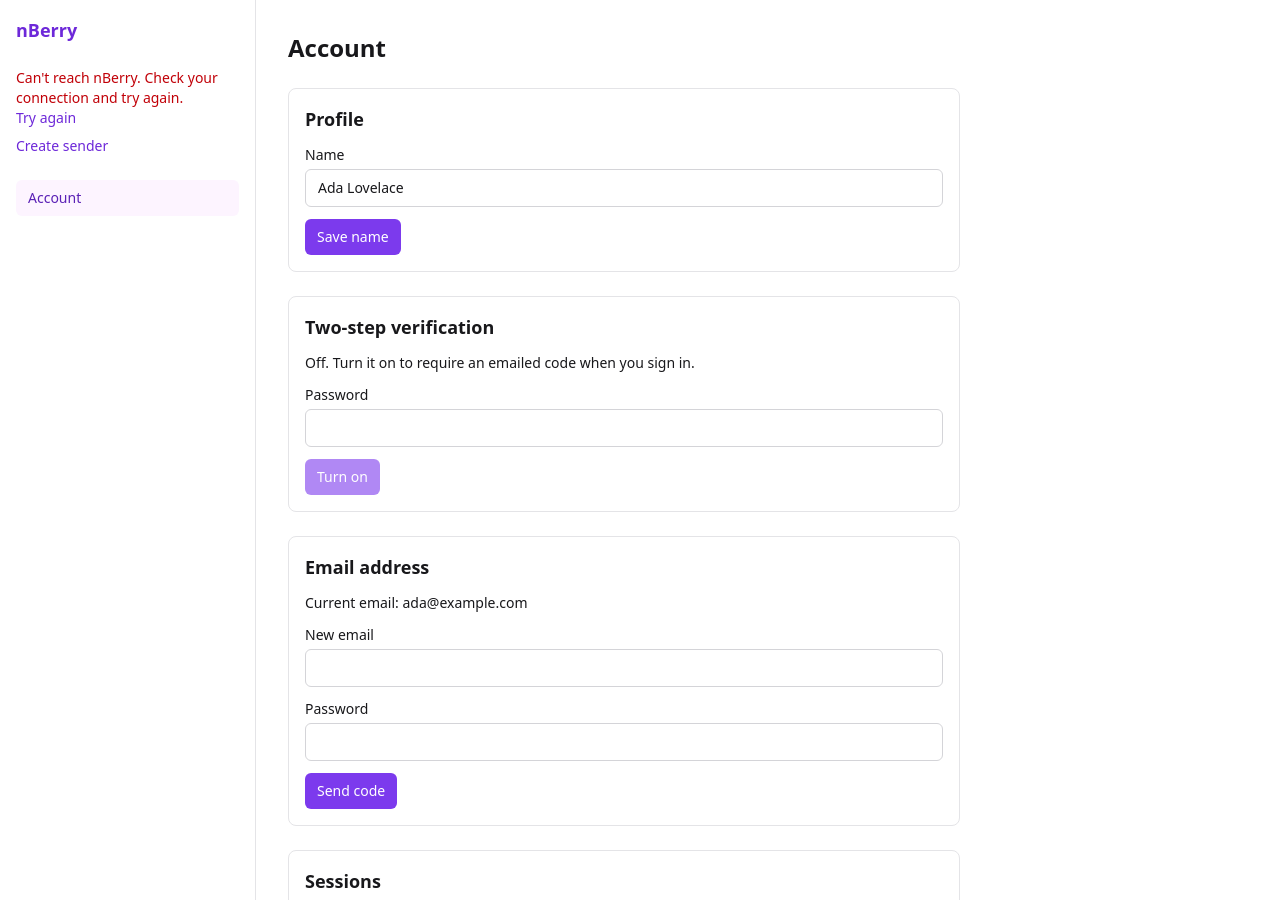
Test: account › email change: request then confirm code
expect the element "Email address" is shown: met, box [288,536,960,826]
Type "new@example.com" into the field labelled "New email" at x=624, y=668, box [305,649,943,687]
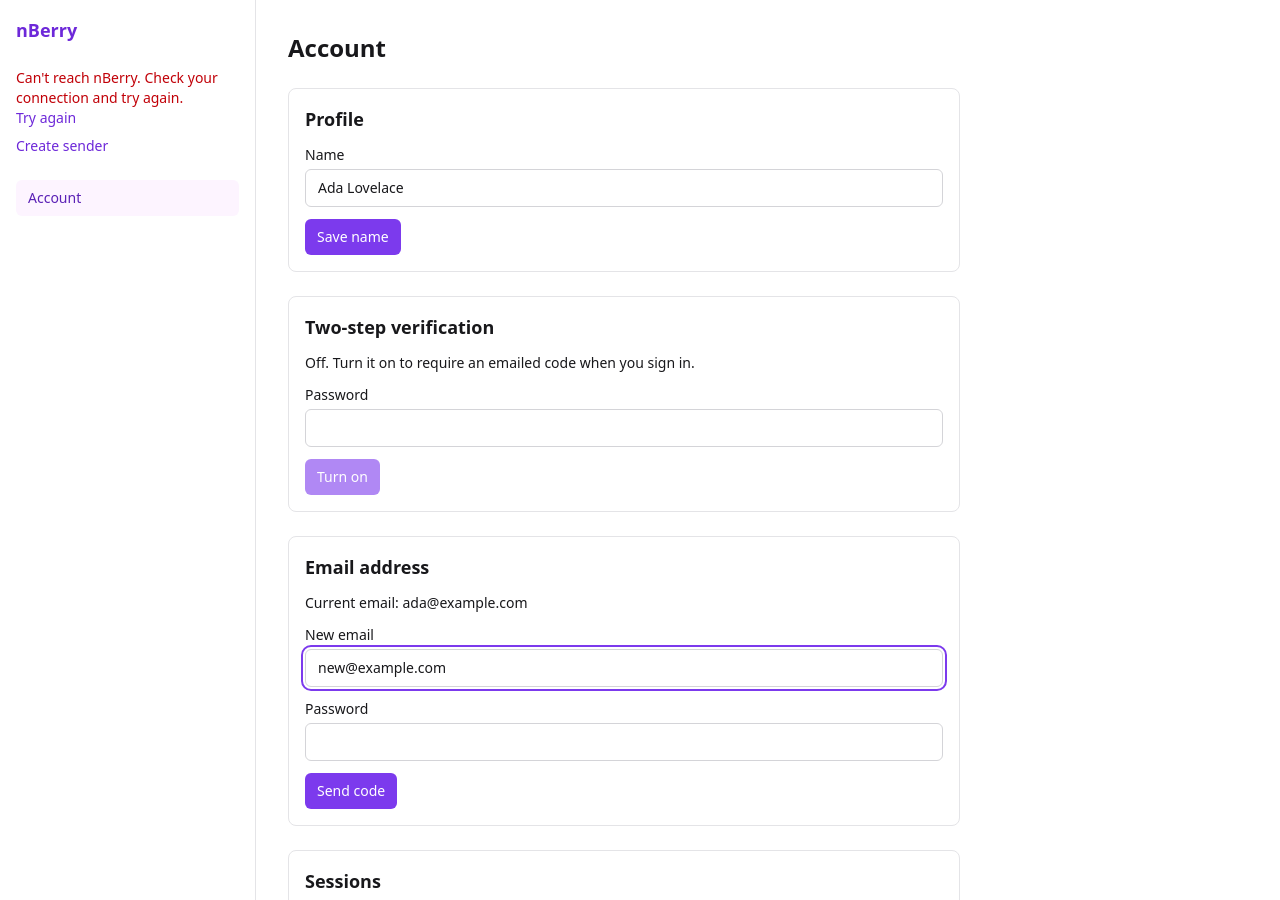
Type "pw-pw-pw-pw" into the password field labelled "Password" below "New email" at x=624, y=742, box [305,723,943,761]
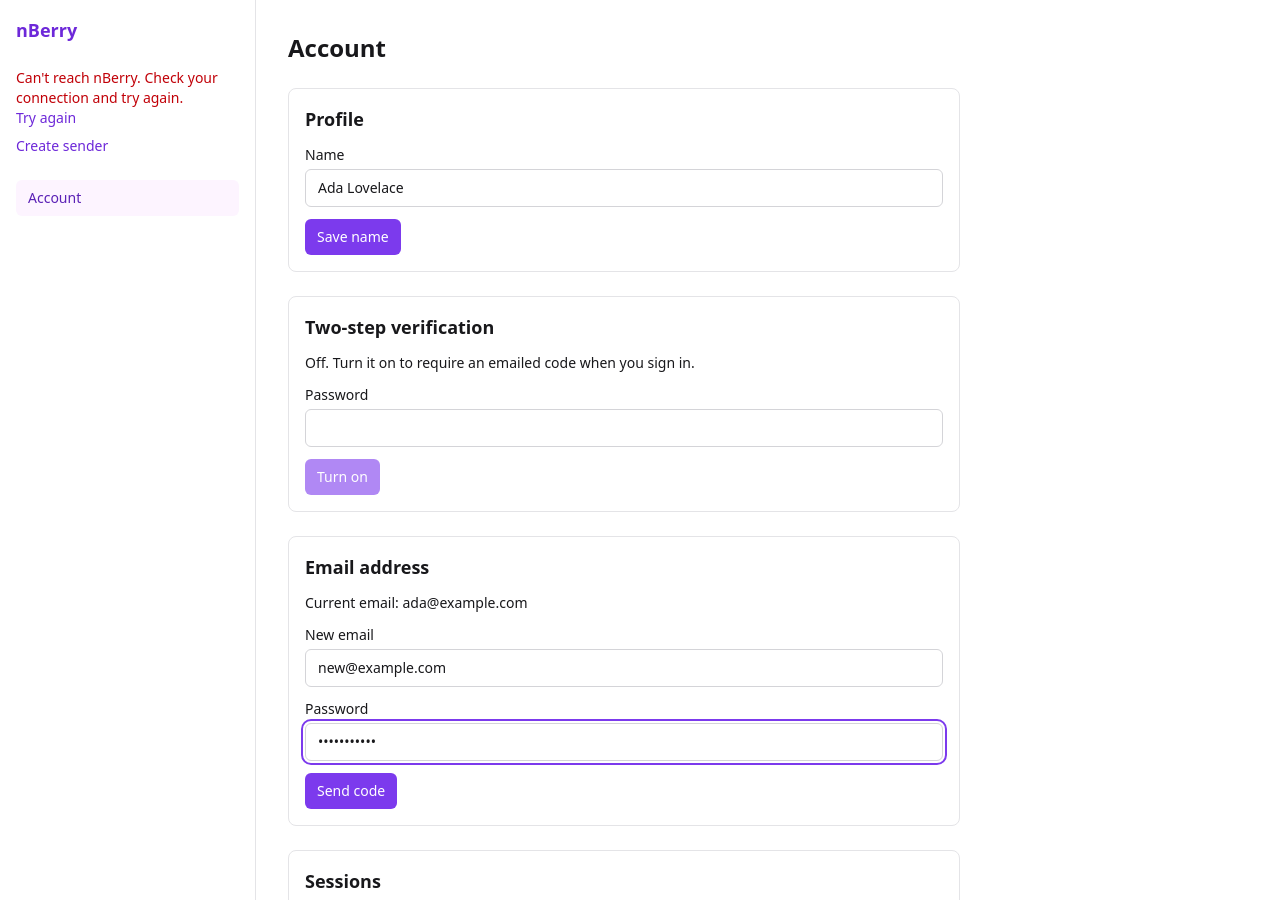
Click the button "Send code" at x=351, y=791, box [305,773,397,809]
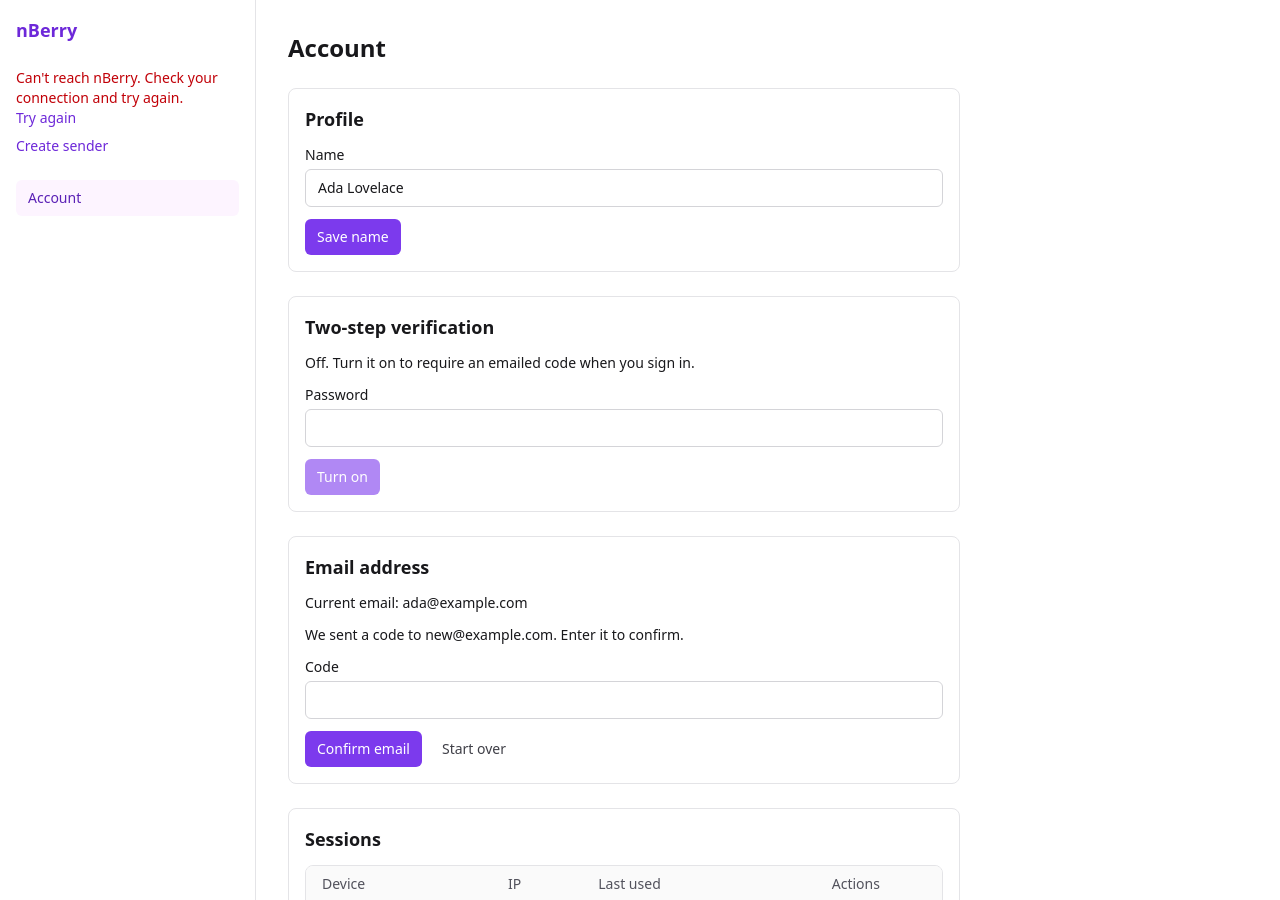
Type "123456" into the field labelled "Code" at x=624, y=700, box [305,681,943,719]
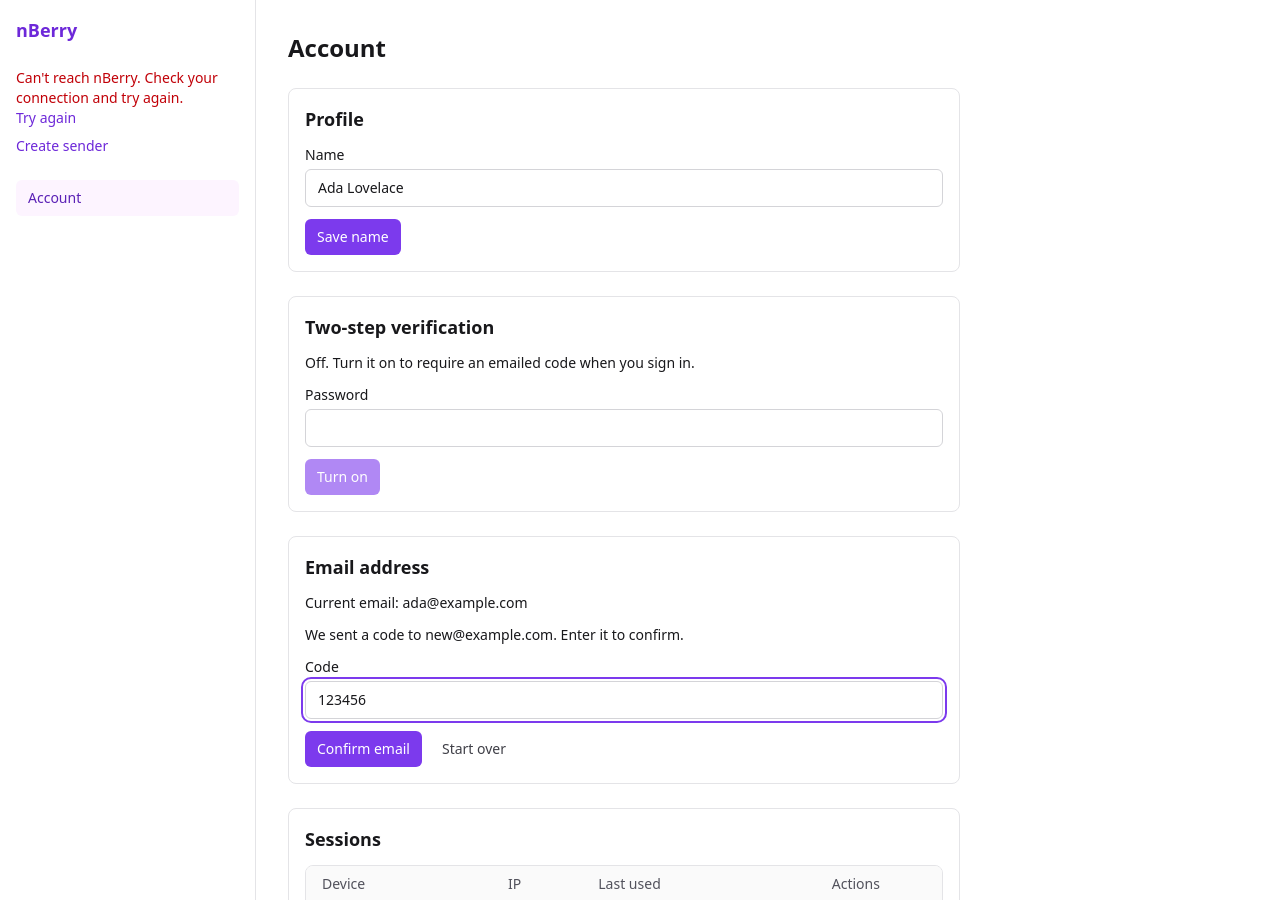
Click the button "Confirm email" at x=364, y=749, box [305,731,422,767]
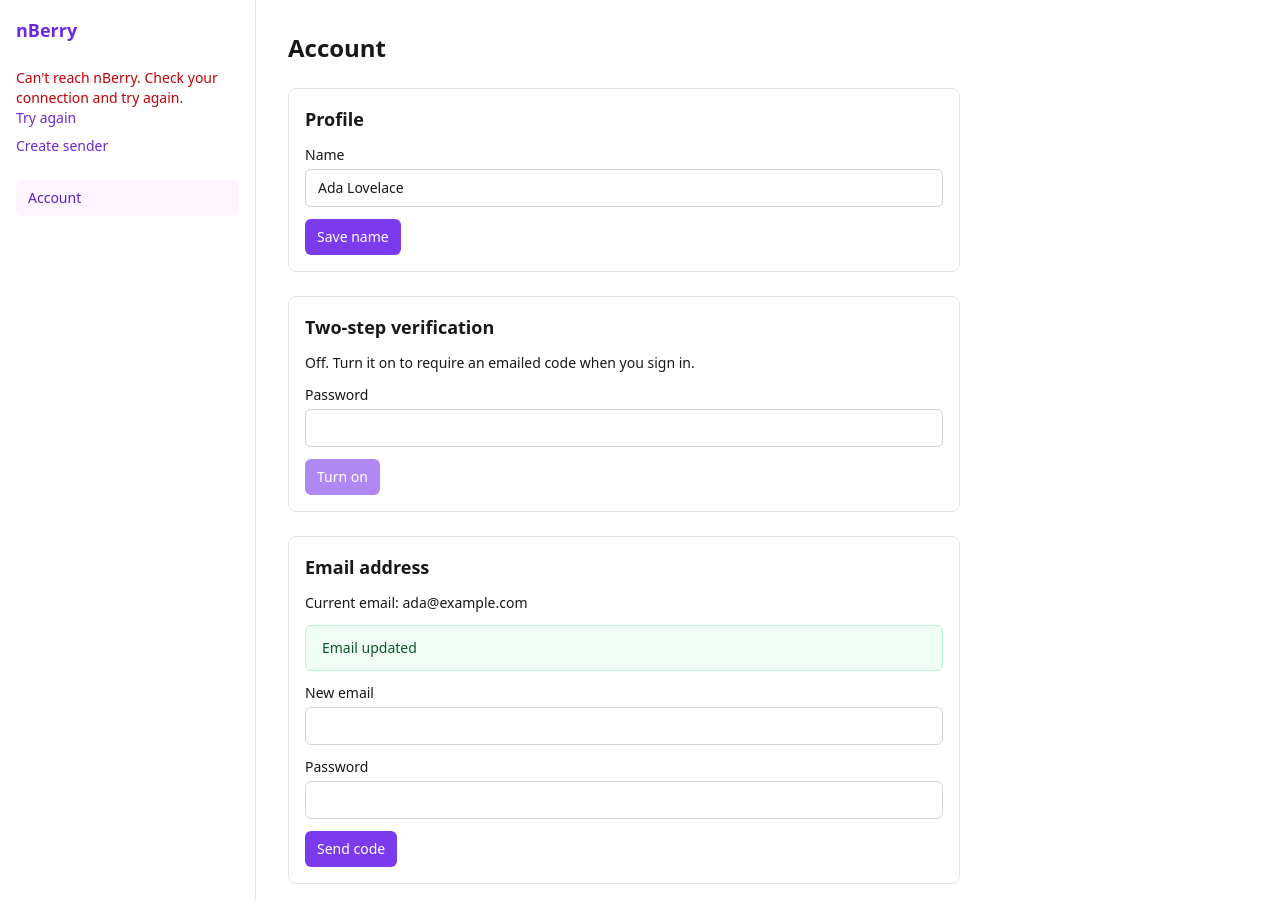
expect the text "Email updated" is shown: met, box [305,625,943,671]
